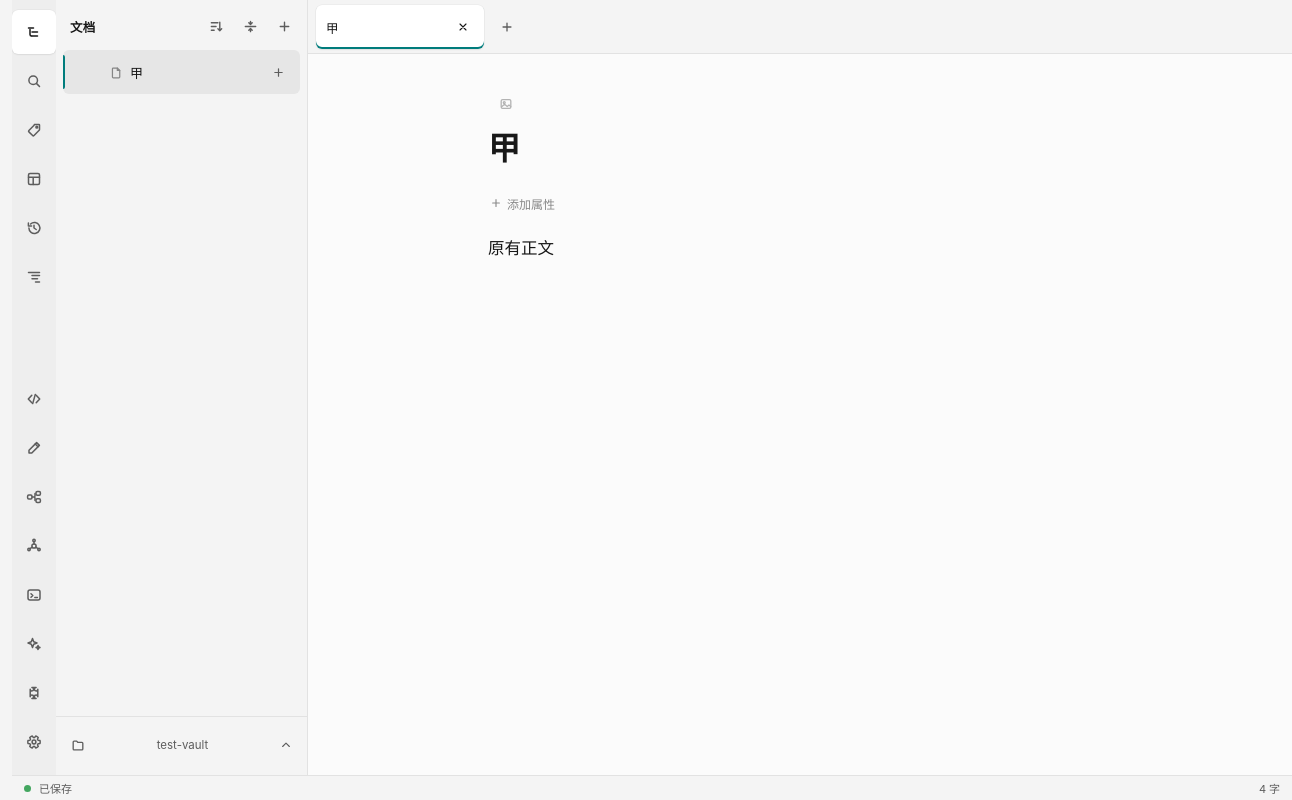
Test case: 侧栏里的模板面板 › 可以从更多菜单删除模板
The image size is (1292, 800).
Click the button named "模板" at (34, 179), box [12,157,56,201]
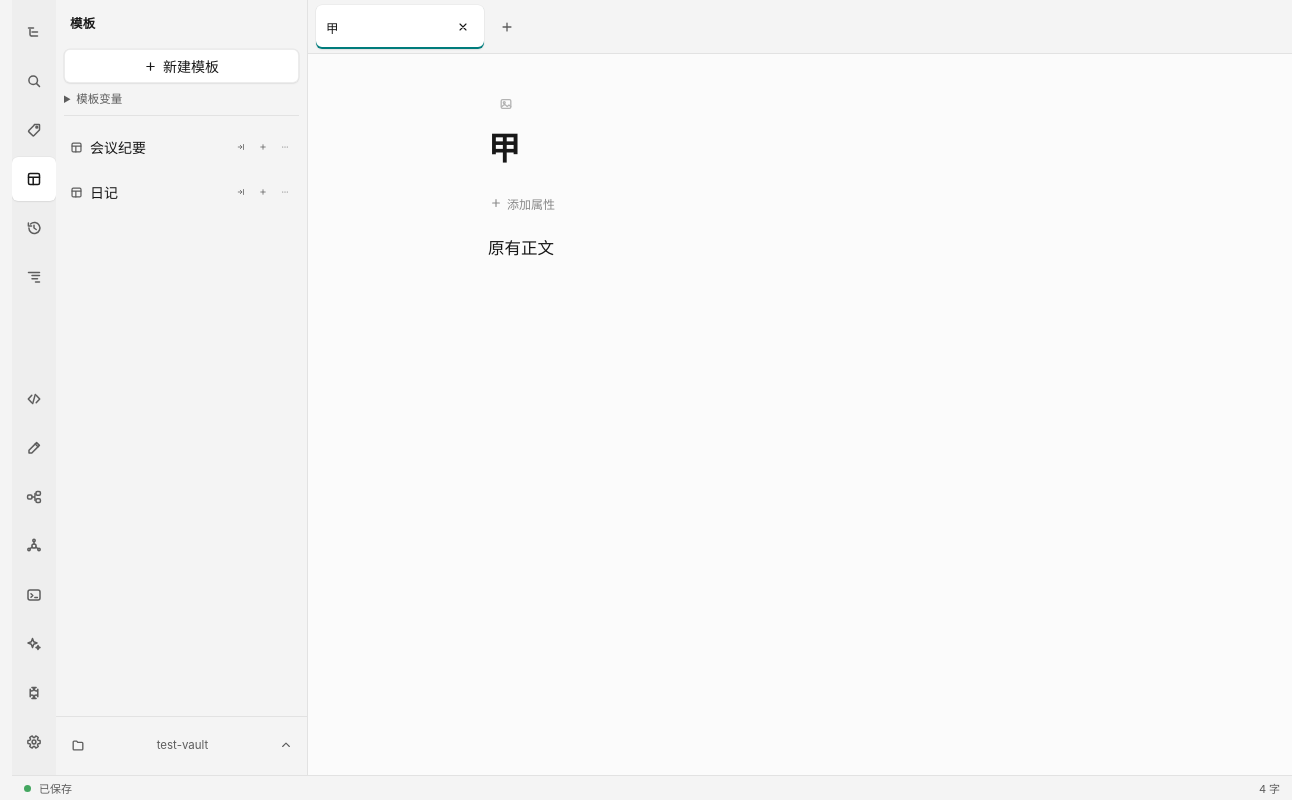
Click the button named "管理「日记」" at (285, 192), box [275,182,295,202]
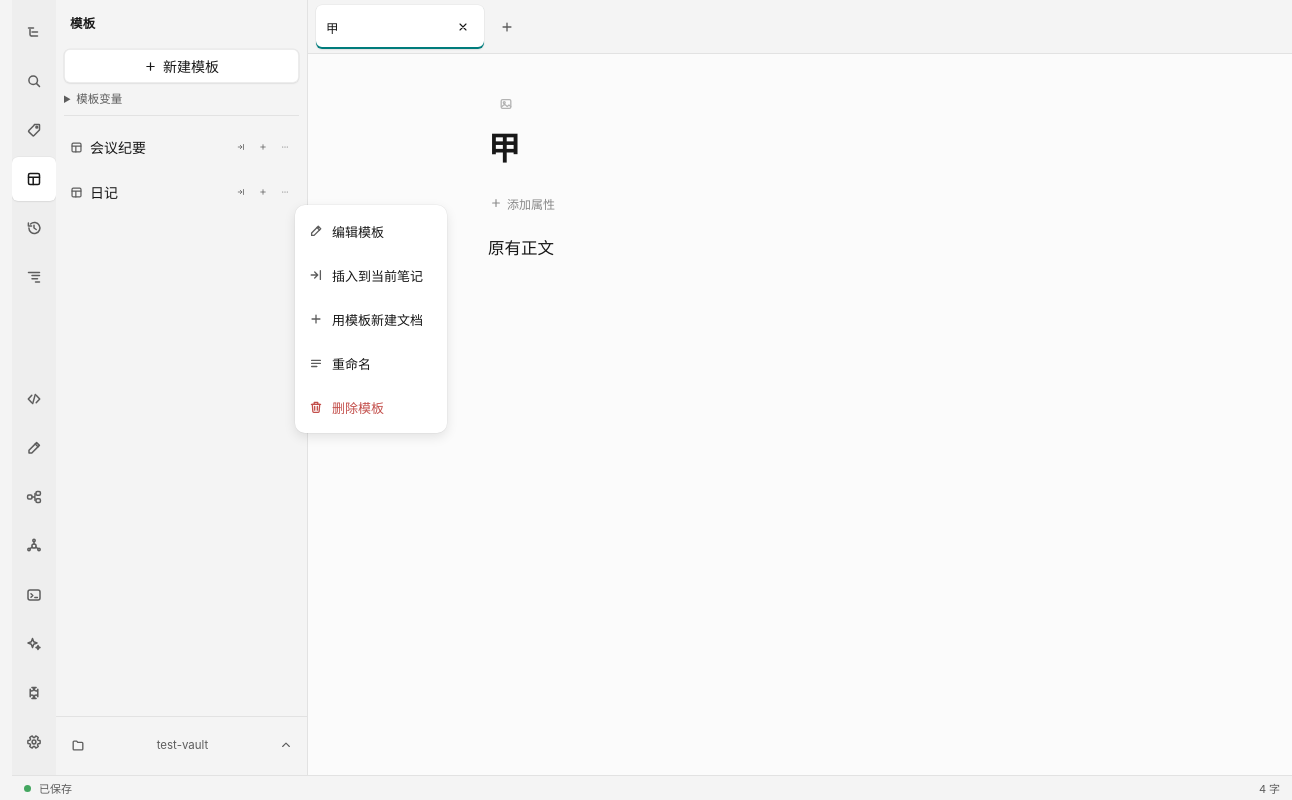
Click the button "删除模板" at (371, 407), box [299,385,443,429]
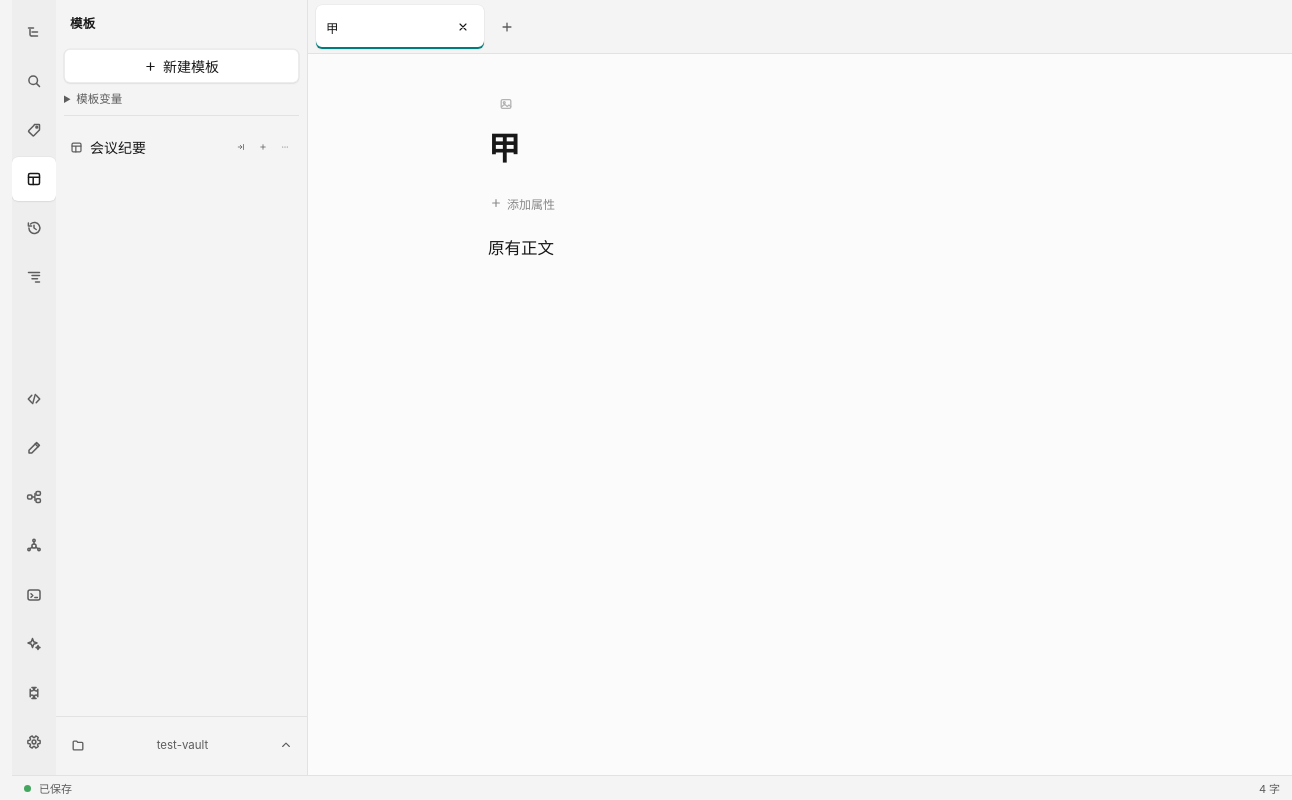
Now the button with class "tpl-list" no longer shows "日记"
